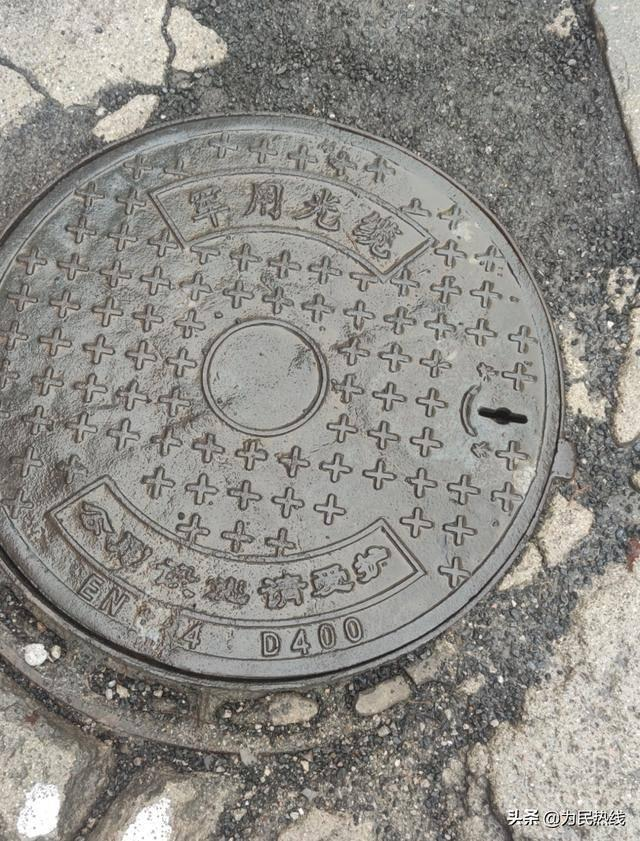wellcover: (0, 108, 574, 714)
